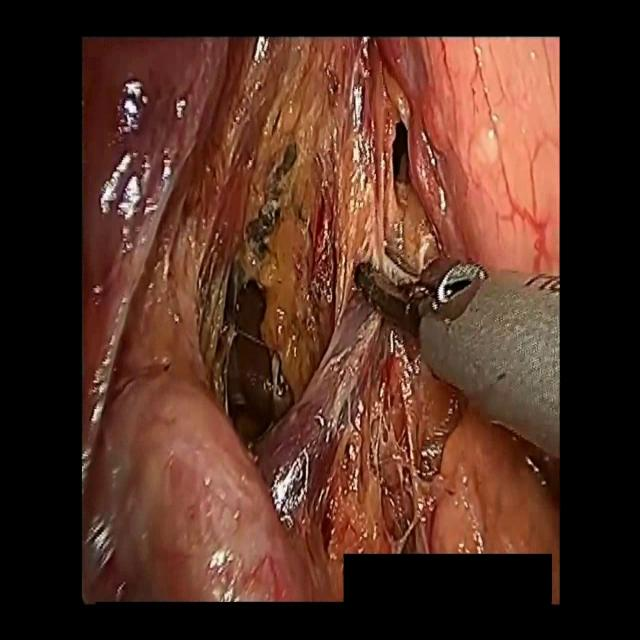surgical-area: (83, 37, 560, 603)
surgical-tool: (352, 260, 560, 463)
